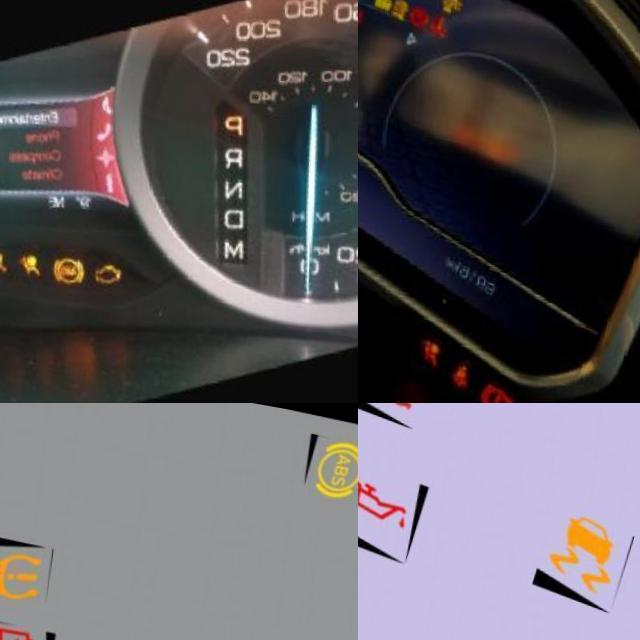High Engine Coolant Temperature: (432, 3, 458, 33)
